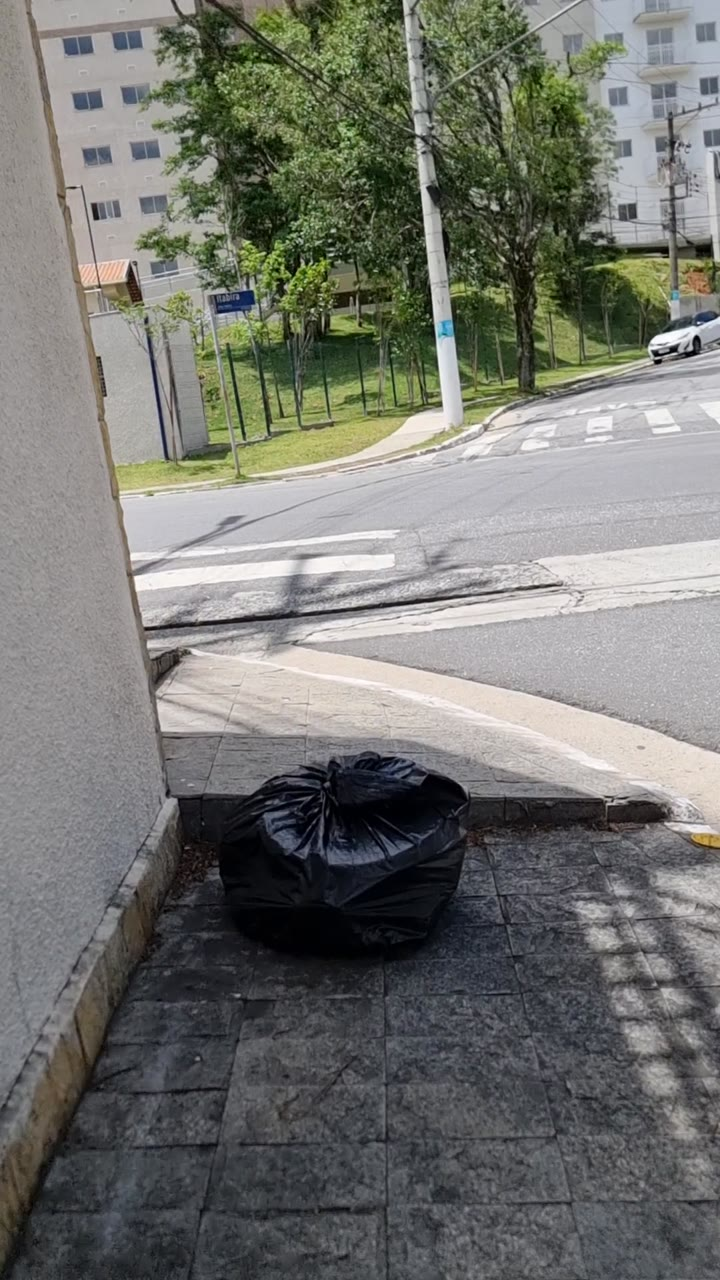desnivel: (144, 614, 720, 717)
obstaculo: (220, 752, 469, 955), (425, 0, 468, 422)
